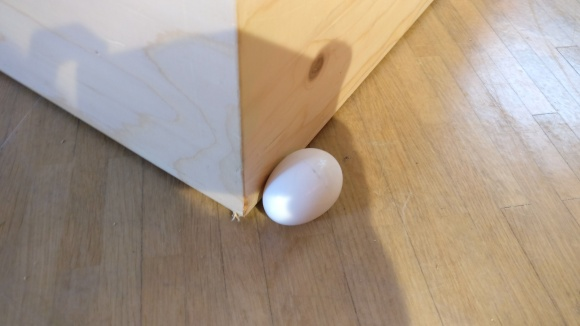egg: (262, 147, 343, 226)
